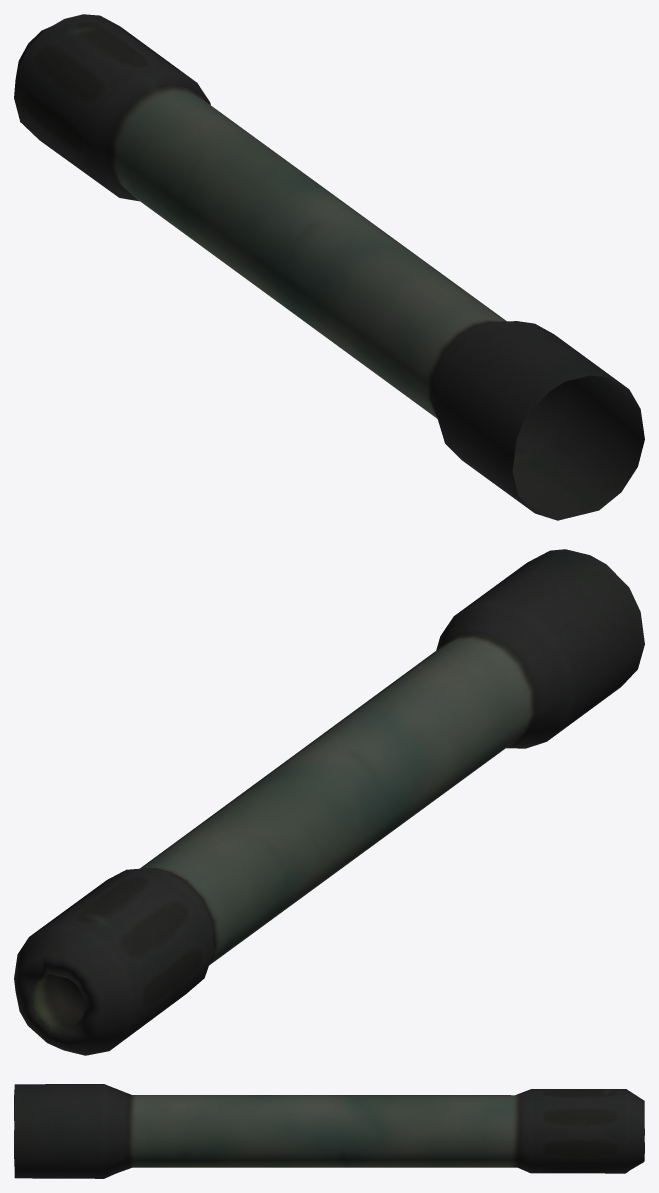
Rendered from AntiCraft_Fire.fbx.
3 renders of one model, top to bottom at view 1: azimuth 30°, elevation 25°; view 2: azimuth 150°, elevation 25°; view 3: azimuth 270°, elevation 25°, orthographic. The views are drawn at different scales.
Parts seen in each view (by area): view 1: AntiAircraft_Low3:Mesh; view 2: AntiAircraft_Low3:Mesh; view 3: AntiAircraft_Low3:Mesh.
Boxes of the visible parts, box(x1,y1,x2,y2) form: AntiAircraft_Low3:Mesh: box(14, 14, 644, 520); AntiAircraft_Low3:Mesh: box(14, 549, 644, 1055); AntiAircraft_Low3:Mesh: box(14, 1084, 644, 1178).
Bounding box in the file's own units: 0.2579 × 0.2486 × 1.7.
Materials: 1 (1 with a texture image).
